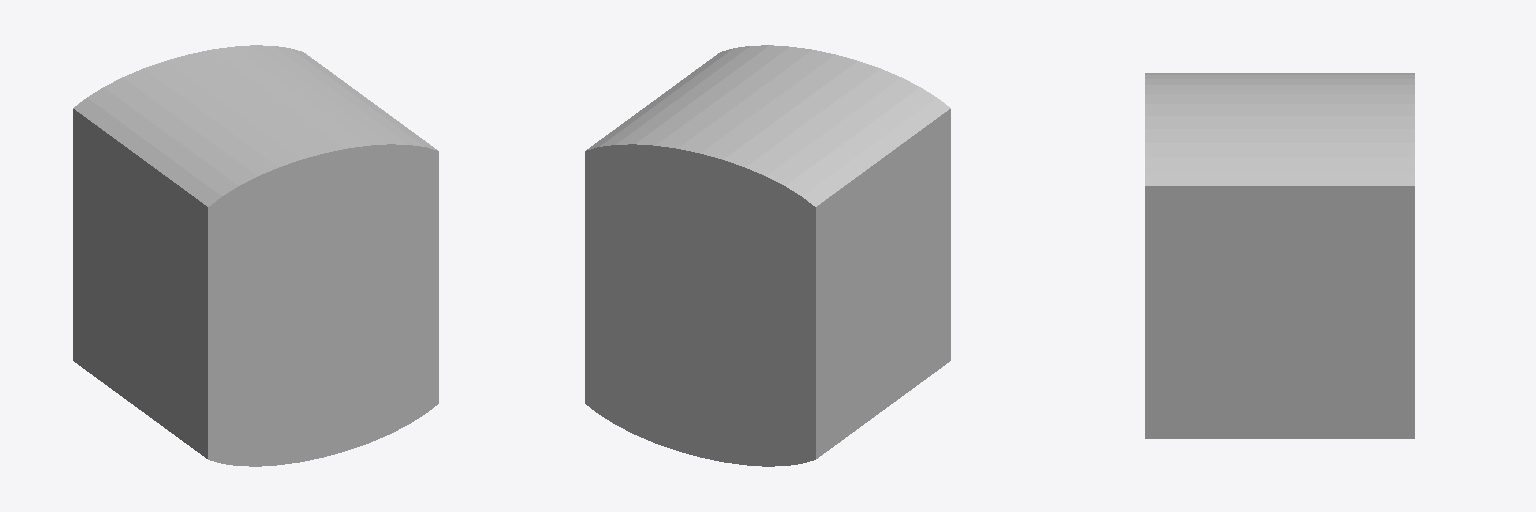
The model's file is original-20.obj.
3 views of the same model, side by side, from view 1: azimuth 30°, elevation 25°; view 2: azimuth 150°, elevation 25°; view 3: azimuth 270°, elevation 25° (orthographic).
Size of the model in its own units: 0.0455 by 0.0573 by 0.0462.